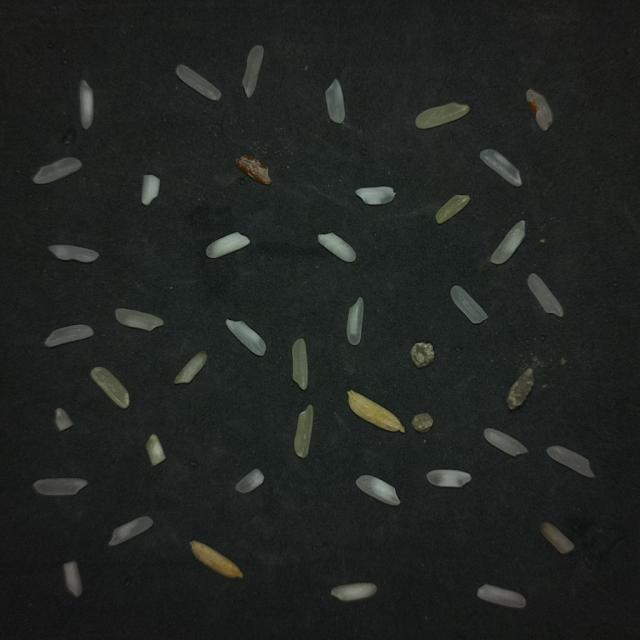broken: (49, 245, 98, 263), (331, 583, 376, 601), (427, 470, 471, 487), (235, 469, 264, 493), (63, 561, 82, 597), (55, 408, 73, 431)
chalky: (356, 475, 400, 506), (318, 233, 356, 262), (207, 232, 249, 258), (355, 186, 396, 204), (79, 80, 94, 129), (142, 175, 159, 205)
damaged: (526, 89, 552, 131), (236, 155, 271, 184)
discolored: (90, 367, 129, 408), (415, 103, 469, 129), (174, 351, 207, 384), (540, 522, 574, 554), (294, 405, 313, 458), (436, 195, 469, 224), (292, 339, 308, 389), (146, 434, 166, 465)
foreign: (507, 368, 534, 409), (411, 342, 434, 368), (412, 413, 433, 432)
paddy: (348, 390, 404, 433), (190, 541, 243, 578)
whole: (176, 65, 221, 100), (490, 220, 525, 264), (225, 319, 266, 356), (480, 149, 521, 186), (527, 274, 563, 316), (547, 446, 594, 478), (451, 286, 487, 323), (33, 157, 82, 184), (109, 516, 153, 546), (477, 584, 526, 608), (484, 429, 527, 456), (115, 308, 164, 331), (44, 325, 93, 347), (243, 45, 263, 98), (33, 478, 88, 495), (326, 79, 344, 123), (347, 297, 363, 345)
